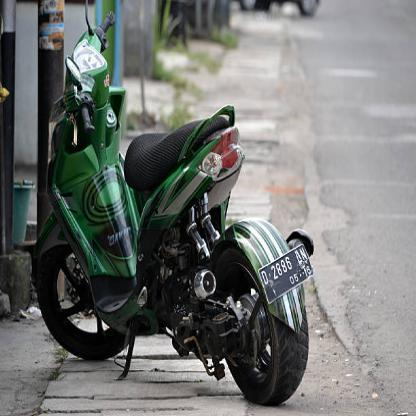Motorcycle: (22, 0, 323, 415)
